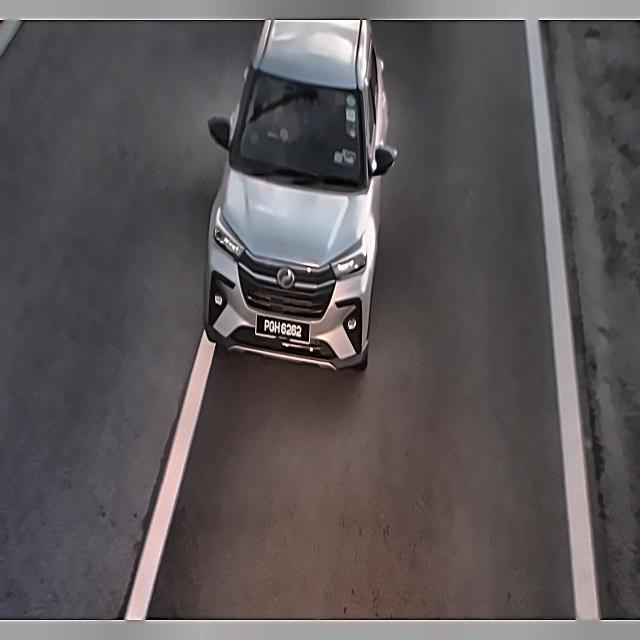car: (250, 308, 318, 349)
